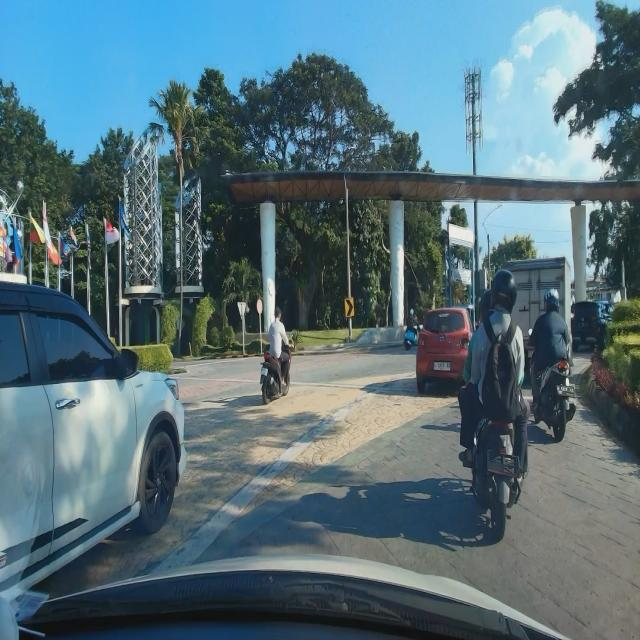car: (414, 305, 480, 394), (570, 298, 615, 349)
license-plate: (433, 362, 451, 371)
